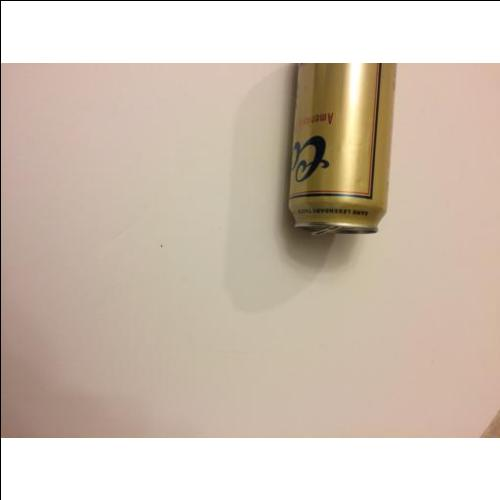metal: (289, 60, 392, 236)
